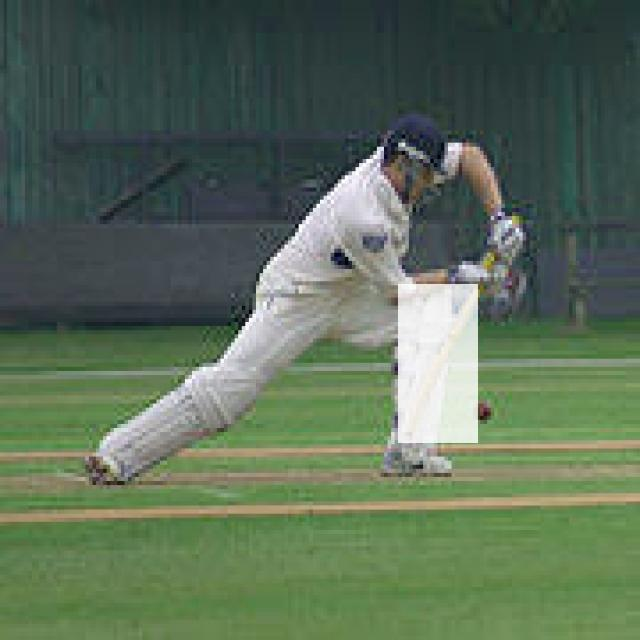bat: (400, 285, 480, 442)
